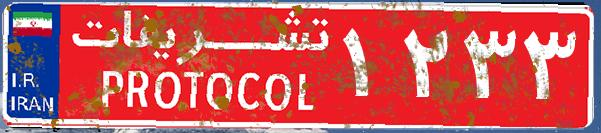1: (340, 20, 400, 115)
2: (400, 20, 460, 115)
3: (460, 20, 520, 115), (520, 20, 580, 115)
تشریفات: (60, 8, 340, 125)
